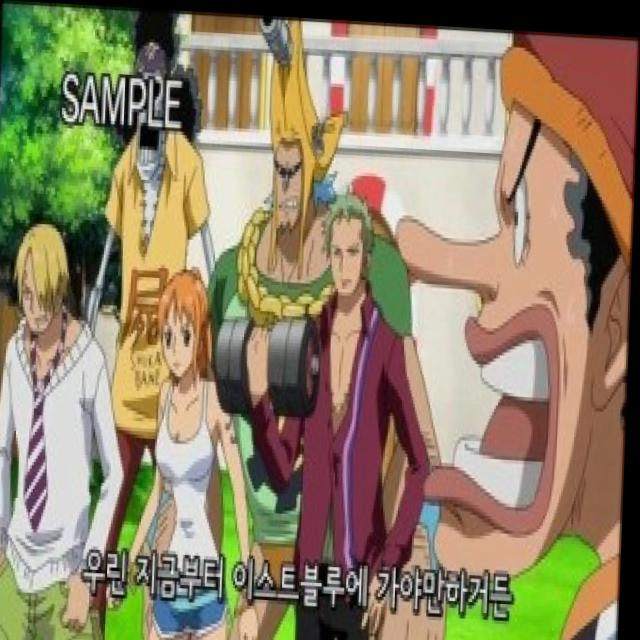Blook: (122, 6, 186, 190)
Franky: (264, 13, 333, 250)
Nami: (151, 246, 226, 389)
Sangdi: (11, 196, 84, 348)
Usopp: (394, 19, 640, 581)
Zoro: (321, 180, 383, 306)
